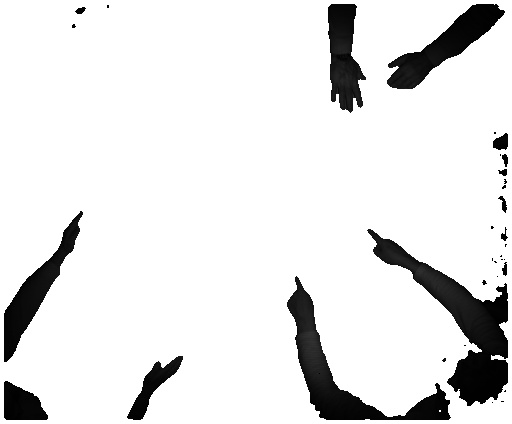hand: (328, 57, 367, 119), (360, 224, 413, 269), (280, 272, 319, 330), (384, 54, 434, 95)
spine: (53, 208, 87, 265), (144, 352, 183, 397)
